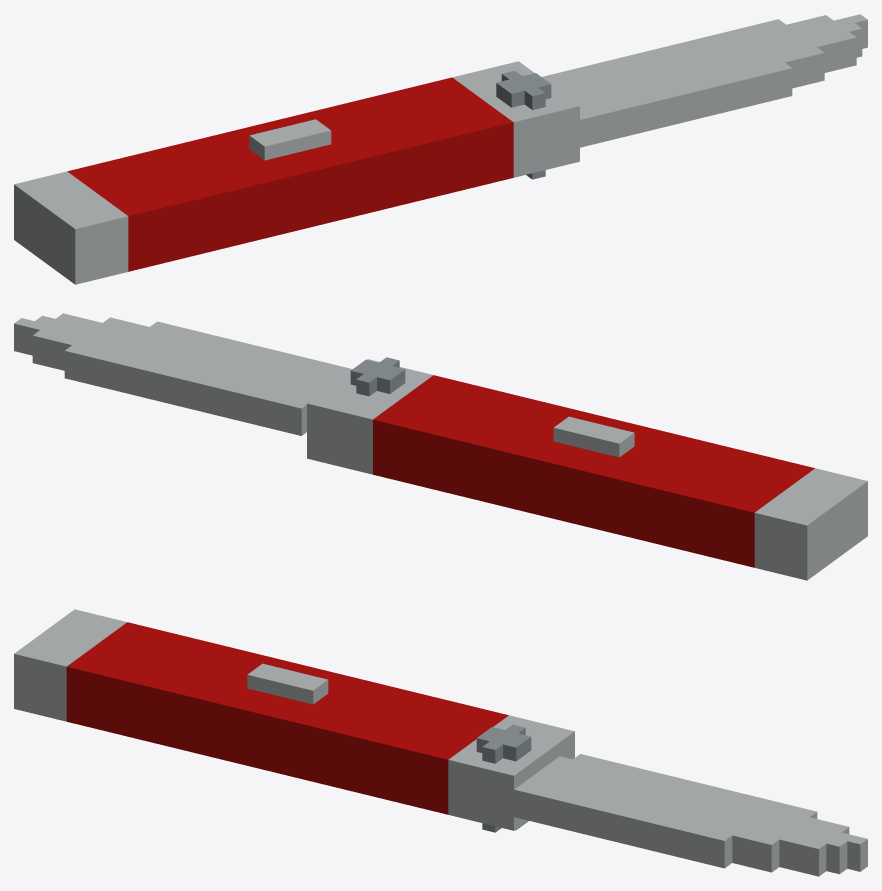
The model's file is pockknife.glb.
3 views of the same model, one above another, from view 1: azimuth 30°, elevation 25°; view 2: azimuth 150°, elevation 25°; view 3: azimuth 330°, elevation 25° (orthographic).
Visible parts, largest first — view 1: pockknife:compound; view 2: pockknife:compound; view 3: pockknife:compound.
Boxes of the visible parts, x1,y1,x2,y2 form: pockknife:compound: (14,14,867,284); pockknife:compound: (14,313,867,580); pockknife:compound: (14,609,867,876).
Size of the model in its own units: 0.124 by 0.012 by 0.016.
